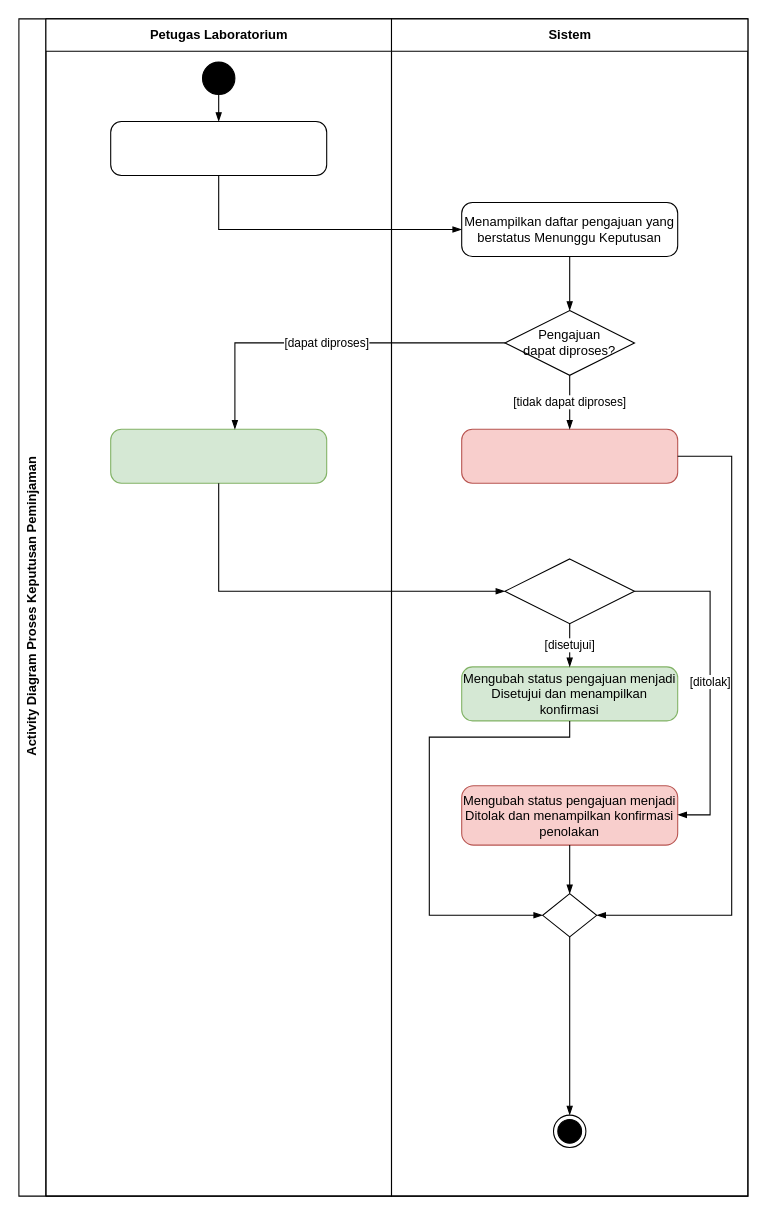
Image size: 767x1215. Some labels were removed from this diagram. Here are the shapes that lost their labels. From the top down, the centre of each, then its label:
At pixel 218 148: "Membuka daftar pengajuan yang berstatus Menunggu Keputusan".
At pixel 218 455: "Memilih pengajuan dan menetapkan persetujuan atau penolakan".
At pixel 569 455: "Menampilkan pesan pengajuan tidak dapat diproses".
At pixel 569 591: "Pengajuan disetujui?".
